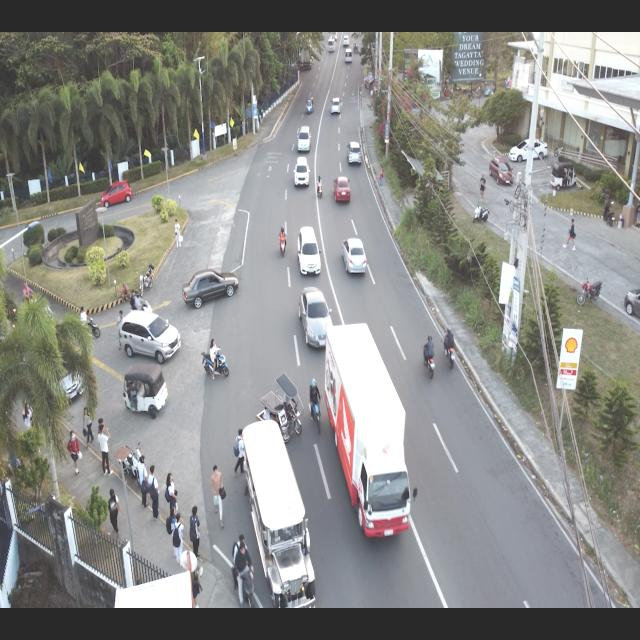bicycle: (554, 144, 566, 159)
car: (239, 418, 319, 612), (118, 308, 182, 365), (296, 285, 334, 351), (181, 267, 239, 310), (296, 225, 322, 278), (341, 236, 368, 277), (508, 138, 549, 162), (100, 180, 133, 208), (488, 156, 514, 186), (293, 156, 311, 188), (332, 176, 351, 203), (296, 124, 312, 154), (345, 140, 362, 166), (330, 96, 342, 115), (327, 38, 336, 52), (344, 48, 352, 63), (343, 34, 349, 48), (330, 32, 338, 41)
motorcycle: (200, 338, 230, 380), (306, 377, 324, 437), (76, 304, 102, 340), (575, 275, 603, 307), (420, 334, 436, 379), (441, 323, 456, 371), (129, 288, 153, 318), (136, 262, 154, 298), (472, 200, 490, 225), (602, 198, 616, 227), (278, 225, 287, 258), (316, 175, 324, 198)
person: (210, 464, 228, 532), (96, 424, 115, 478), (146, 464, 162, 521), (66, 429, 84, 479), (105, 487, 122, 538), (172, 512, 186, 568), (136, 452, 150, 508), (164, 471, 178, 522), (232, 426, 246, 475), (189, 504, 201, 560), (82, 406, 95, 448), (562, 218, 577, 254), (116, 307, 126, 350), (174, 218, 184, 248), (120, 280, 130, 304), (478, 173, 486, 202), (378, 166, 384, 188)
truck: (321, 320, 419, 542)
